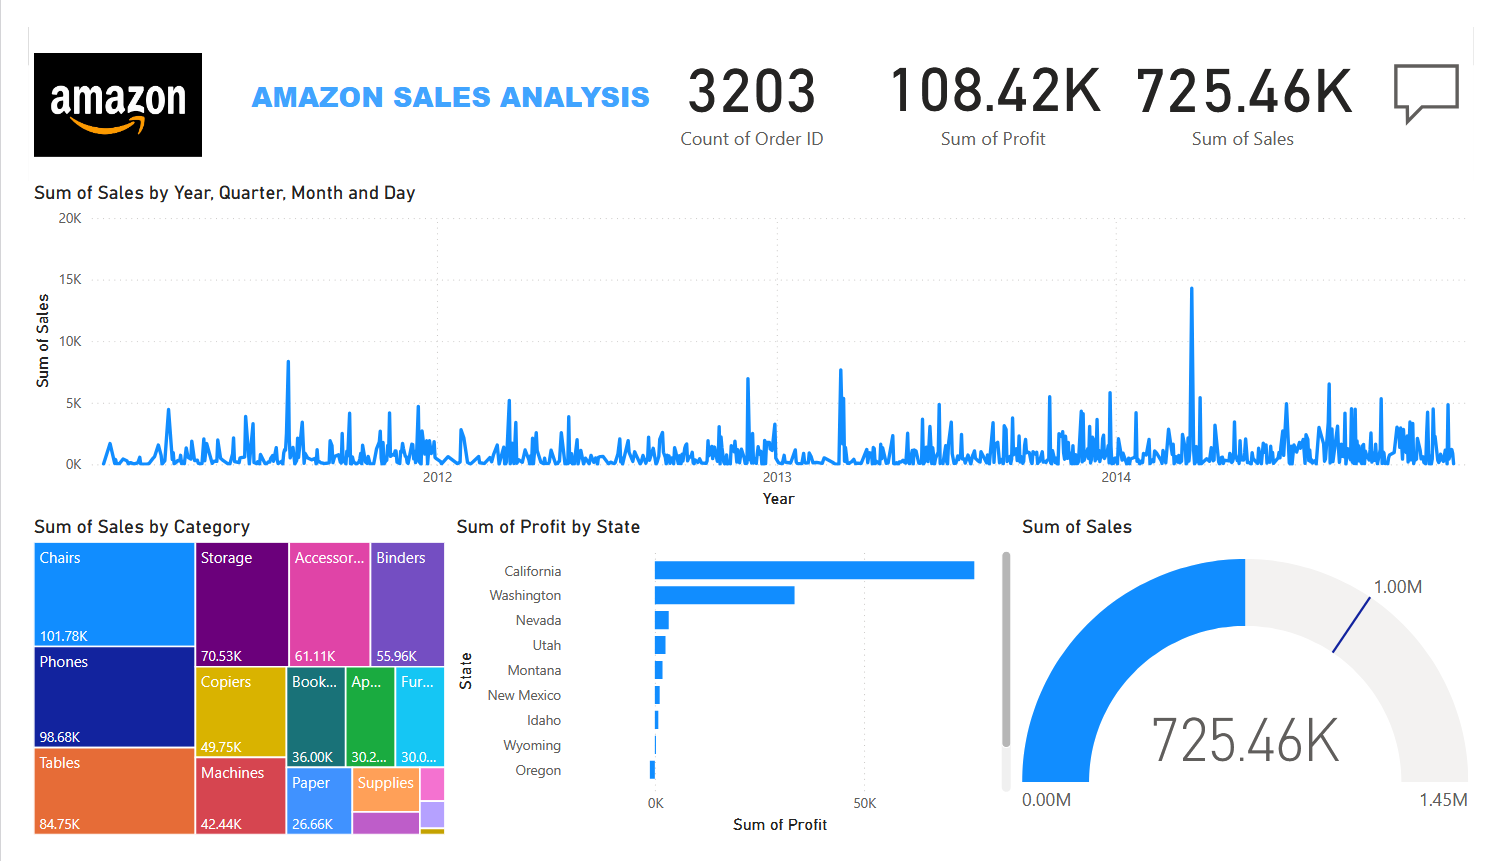

The dashboard page shown, as its layout file describes it:
{"tool":"powerbi","page":{"name":"Page 1","canvas":[1280,720],"ordinal":0},"visuals":[{"type":"card","fields":{"Values":["Sum(Walmart.Sales)"]},"box":[965,1.2,221.2,117.5],"z":0},{"type":"card","fields":{"Values":["Sum(Walmart.Profit)"]},"box":[743.8,1.2,221.2,116.2],"z":1000},{"type":"card","fields":{"Values":["CountNonNull(Walmart.Order ID)"]},"box":[537.5,1.2,206.2,117.5],"z":2000},{"type":"lineChart","fields":{"Y":["Sum(Walmart.Sales)"],"Category":["Walmart.Order Date.Variation.Date Hierarchy.Year","Walmart.Order Date.Variation.Date Hierarchy.Quarter","Walmart.Order Date.Variation.Date Hierarchy.Month","Walmart.Order Date.Variation.Date Hierarchy.Day"]},"box":[0,136.2,1280,295],"z":3000},{"type":"treemap","fields":{"Group":["Walmart.Category"],"Values":["Sum(Walmart.Sales)"]},"box":[0,431.7,374.4,288.6],"z":4000},{"type":"barChart","fields":{"Category":["Walmart.State"],"Y":["Sum(Walmart.Profit)"]},"box":[374.4,431.7,500.1,288.6],"z":5000},{"type":"gauge","fields":{"Y":["Sum(Walmart.Sales)"]},"box":[874.5,431.7,405.5,288.6],"z":6000},{"type":"textbox","box":[138.1,39.8,431.7,44.8],"z":7000},{"type":"image","box":[0,0,159.2,136.8],"z":8000},{"type":"actionButton","box":[1187.1,28.6,77.1,70],"z":9000}]}

Visuals, with their boxes in screenshot pixels (x1, y1, x2, y2), scaled from the page's 1280x720 canvas onto the 1500x861 screenshot:
card - Sum(Walmart.Sales): select_region(1131, 1, 1390, 142)
card - Sum(Walmart.Profit): select_region(872, 1, 1131, 140)
card - CountNonNull(Walmart.Order ID): select_region(630, 1, 872, 142)
lineChart - Sum(Walmart.Sales) x Walmart.Order Date.Variation.Date Hierarchy.Year: select_region(0, 163, 1499, 516)
treemap - Walmart.Category x Sum(Walmart.Sales): select_region(0, 516, 439, 860)
barChart - Walmart.State x Sum(Walmart.Profit): select_region(439, 516, 1025, 860)
gauge - Sum(Walmart.Sales): select_region(1025, 516, 1499, 860)
textbox: select_region(162, 48, 668, 101)
image: select_region(0, 0, 187, 164)
actionButton: select_region(1391, 34, 1481, 118)
